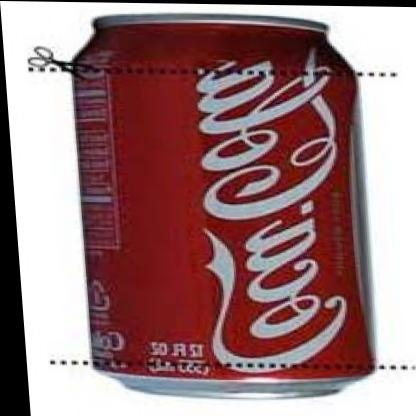trash: (37, 14, 373, 394)
